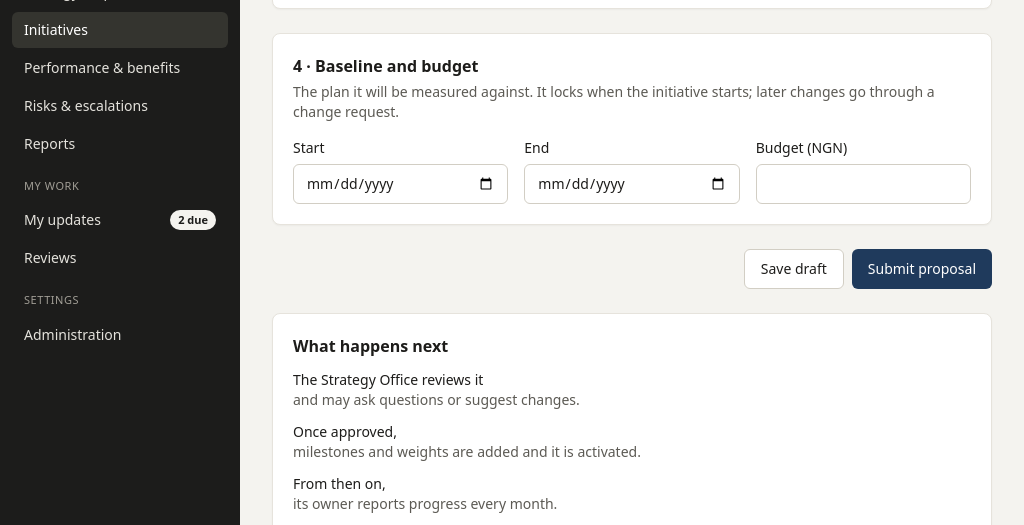
Test: Propose initiative › checks the essentials before sending anything
(page scrolled)
Click the button "Submit proposal" at (922, 269), box [852,249,992,289]
(page scrolled)
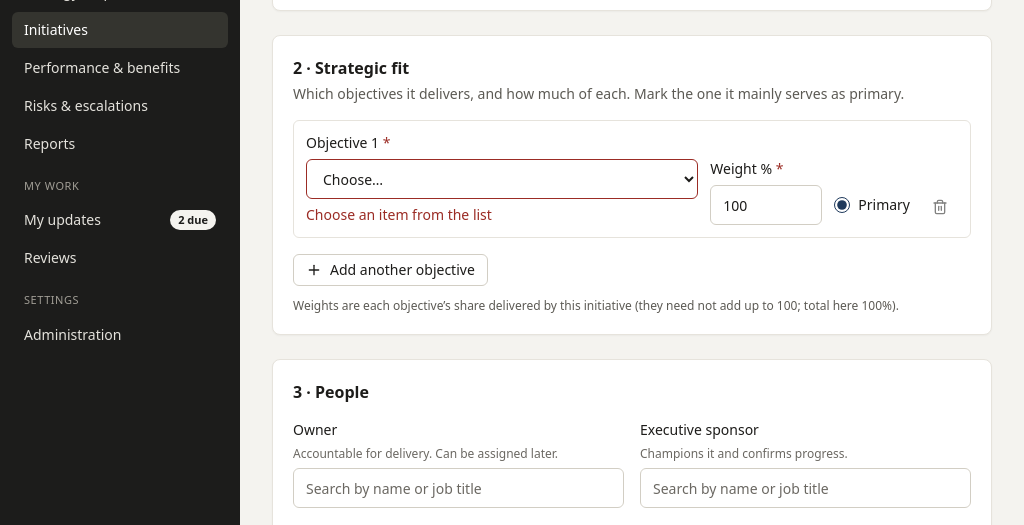
Result: the text "Choose an item from the list" is shown at [306,205,492,224]
